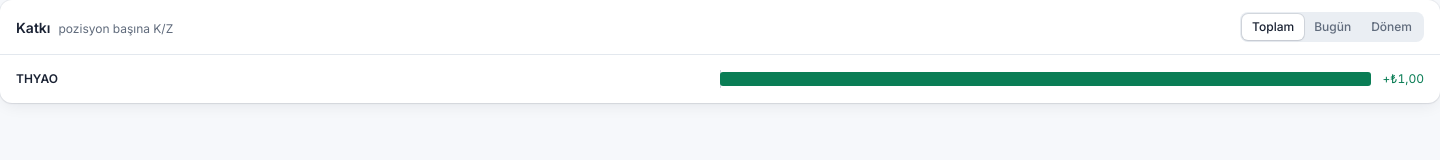
ContributionCard › range mode › shows a deposit by its currency, as plain text
Click the radio button labelled "Dönem" at (1392, 27), box [1361,14,1422,40]
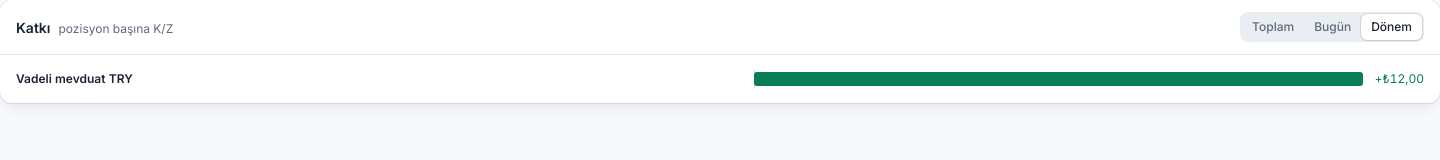
Check: the text "Vadeli mevduat TRY" is shown, box [16,71,133,87]
Check: the link "THYAO" is gone
